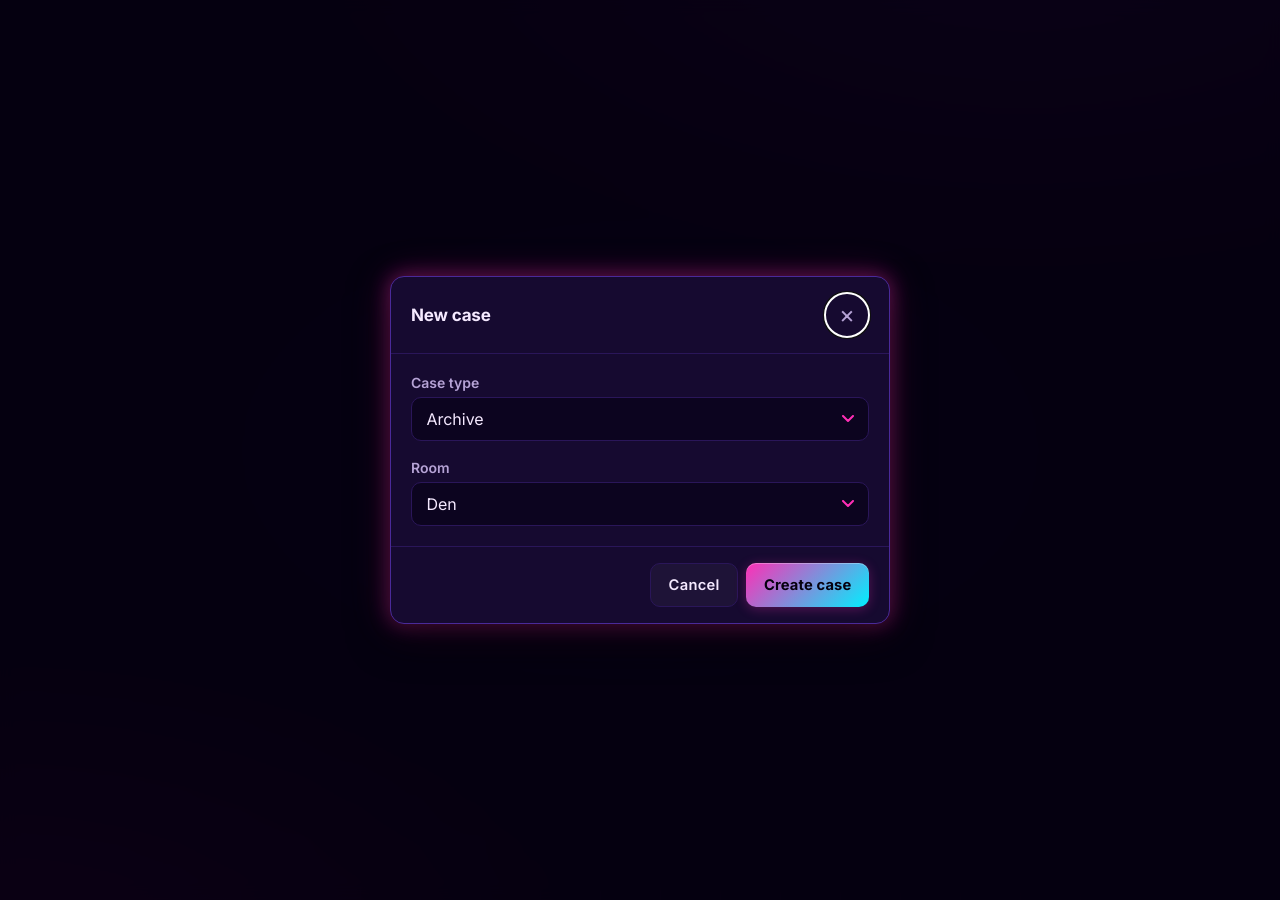
Test: NewCaseModal › creates in the chosen type and the default room, then hands back the new id
The image size is (1280, 900).
Expected: the dialog "New case" is shown, left=390, top=276, right=890, bottom=624
Expected: the dropdown labelled "Room" shows "Den", left=411, top=482, right=869, bottom=526
Step 1. Select "Daily wear" in the dropdown labelled "Case type" → (640, 419), box left=411, top=397, right=869, bottom=441
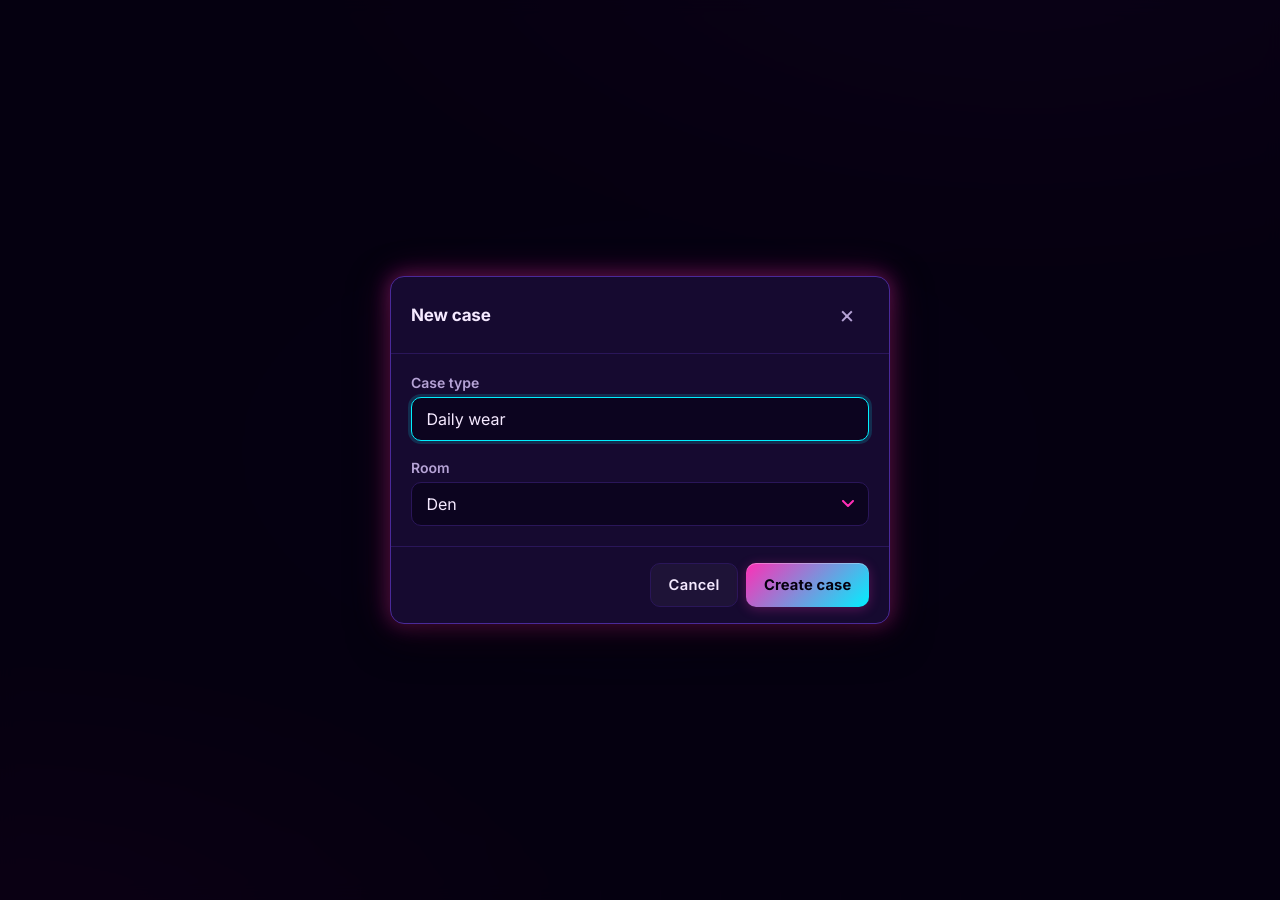
Step 2. Click the button "Create case" → (808, 585), box left=746, top=563, right=869, bottom=607
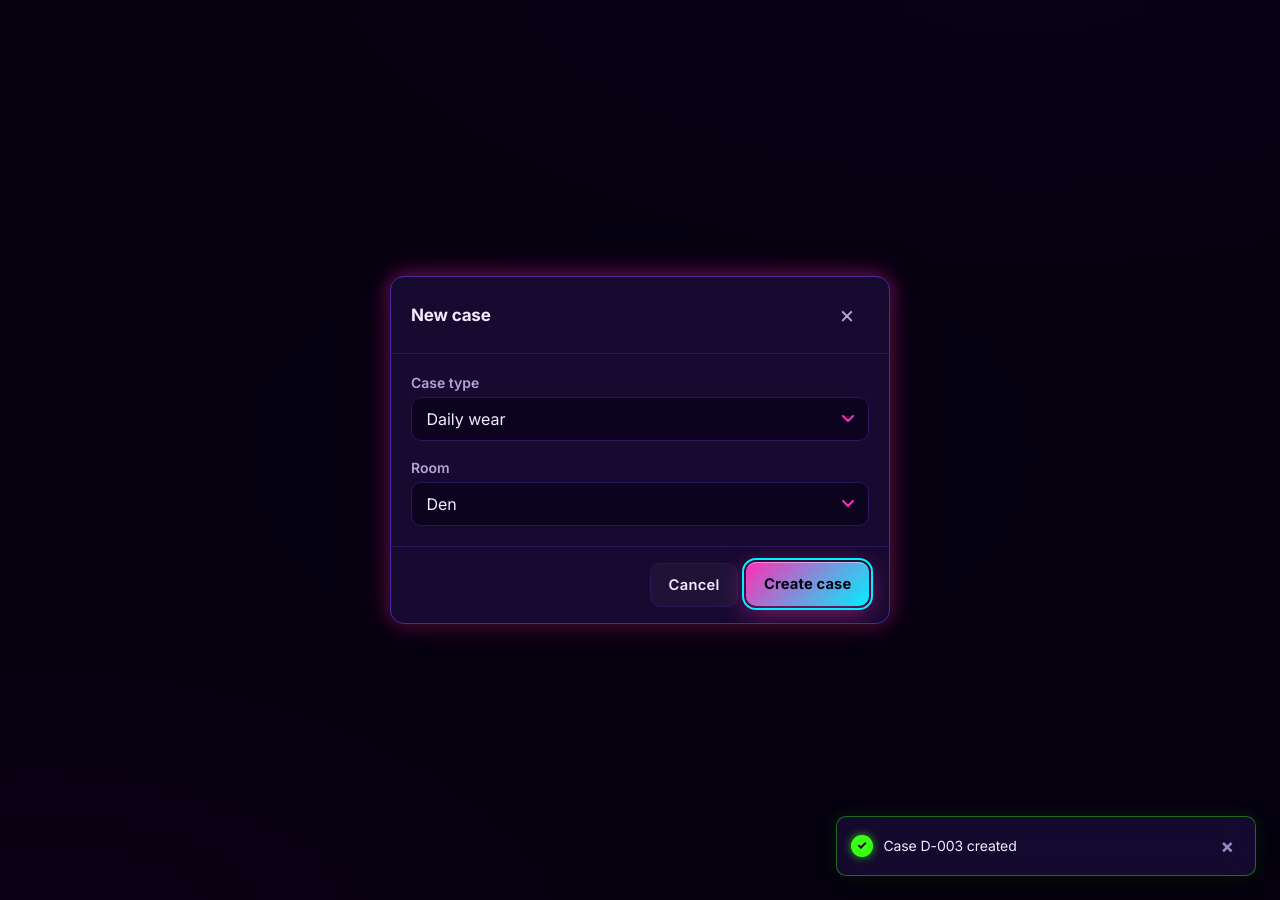
Expected: the text "Case D-003 created" is shown, left=883, top=837, right=1017, bottom=854
